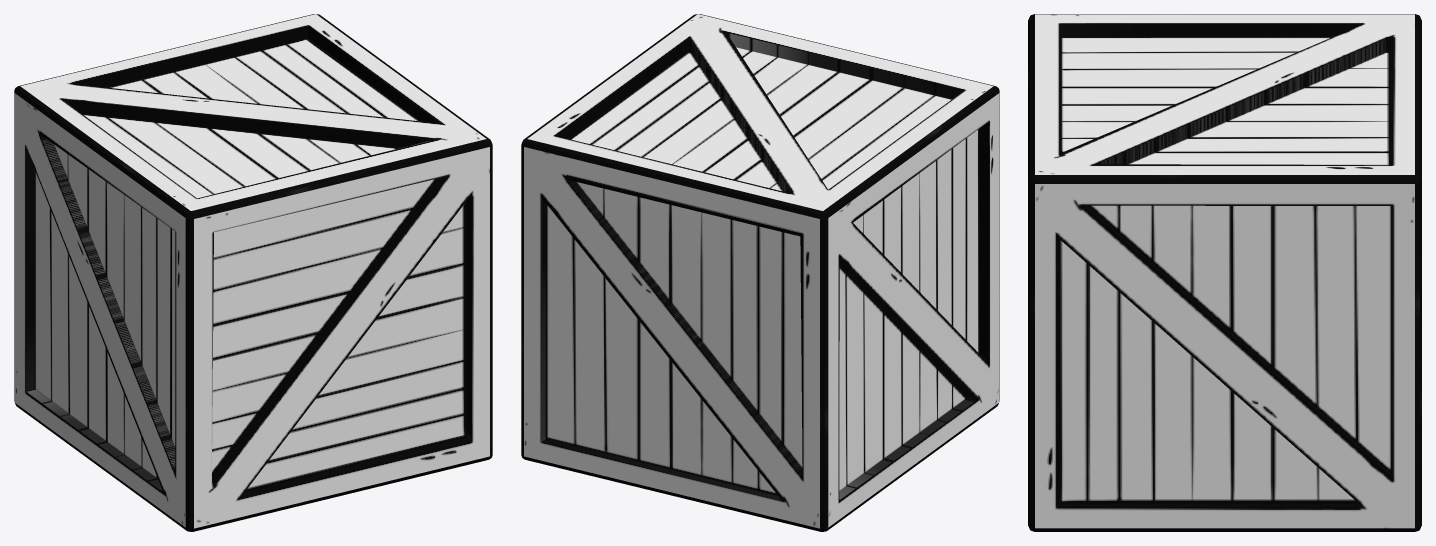
File: Barrel2.fbx
The picture shows the model from 3 angles, left to right: view 1: azimuth 30°, elevation 25°; view 2: azimuth 150°, elevation 25°; view 3: azimuth 270°, elevation 25°; orthographic projection. The views are drawn at different scales.
Parts seen in each view (by area): view 1: Cube.003; view 2: Cube.003; view 3: Cube.003.
Part boxes in pixels (left/top/right/bottom): Cube.003: left=14, top=14, right=492, bottom=531; Cube.003: left=521, top=14, right=999, bottom=531; Cube.003: left=1028, top=14, right=1421, bottom=531.
Size of the model in its own units: 2.48 by 2.48 by 2.48.
